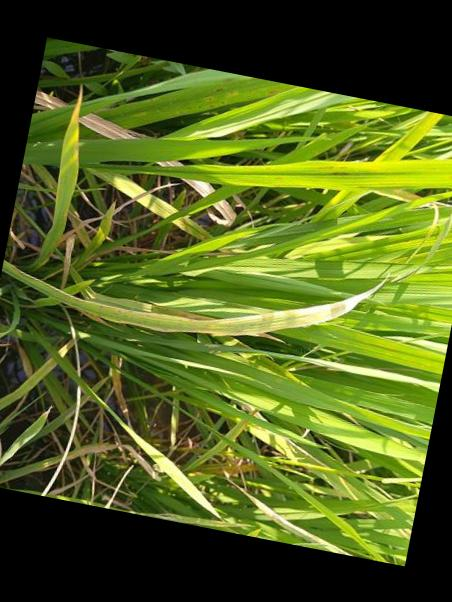Leaf Blight: (2, 258, 378, 333)
